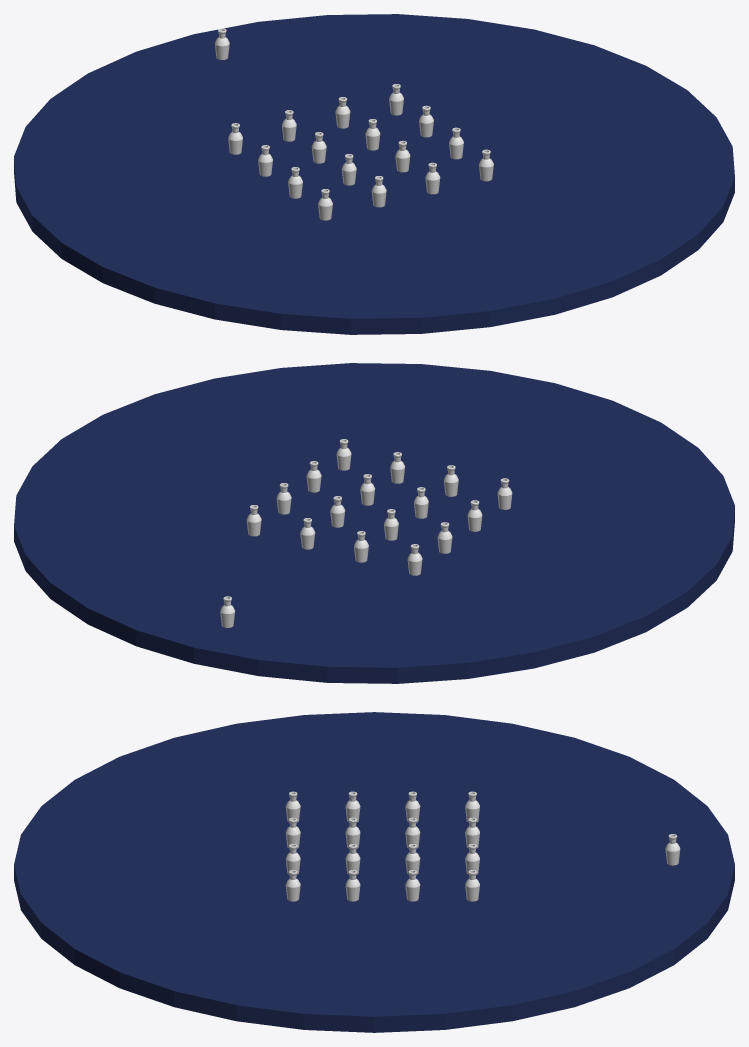
File: Table.fbx
The picture shows the model from 3 angles, top to bottom: view 1: azimuth 30°, elevation 25°; view 2: azimuth 150°, elevation 25°; view 3: azimuth 270°, elevation 25°; orthographic projection.
Visible parts, largest first — view 1: 柱体, 柱体.001; view 2: 柱体, 柱体.001; view 3: 柱体, 柱体.001.
Boxes of the visible parts, bbox=[...] form: 柱体: bbox=[14, 14, 734, 334]; 柱体.001: bbox=[228, 84, 493, 220]; 柱体: bbox=[14, 363, 734, 683]; 柱体.001: bbox=[246, 439, 512, 575]; 柱体: bbox=[14, 712, 734, 1032]; 柱体.001: bbox=[285, 791, 479, 901].
Bounding box in the file's own units: 192 × 12.82 × 192.
